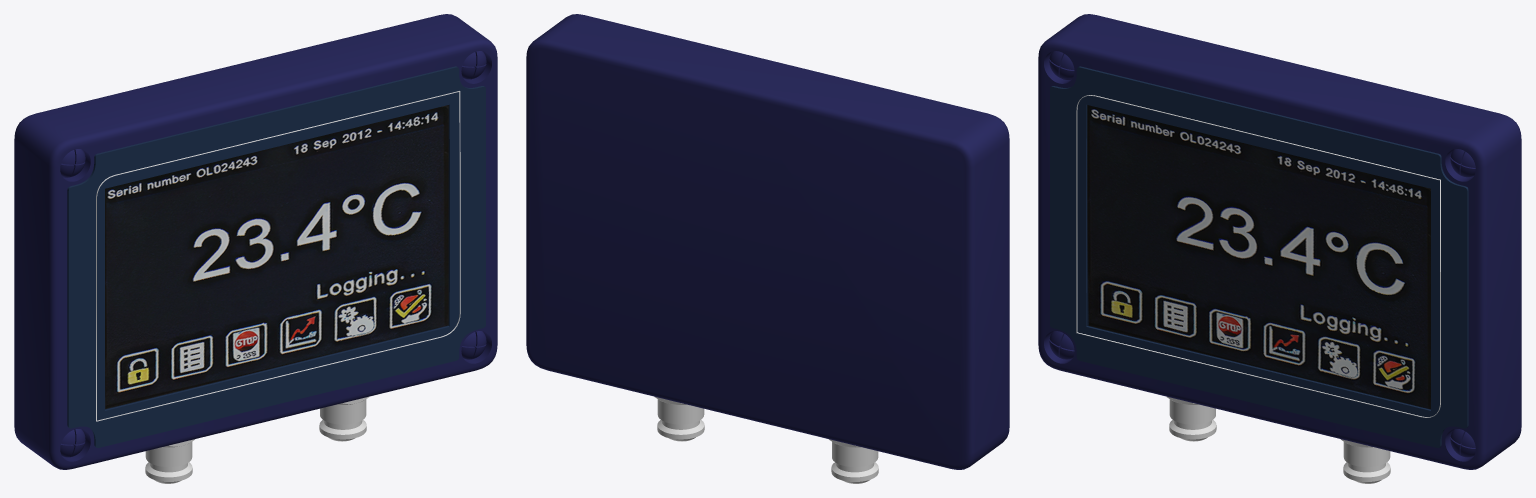
File: Sensor_C.glb
The picture shows the model from 3 angles, left to right: view 1: azimuth 30°, elevation 25°; view 2: azimuth 150°, elevation 25°; view 3: azimuth 330°, elevation 25°; orthographic projection.
Parts seen in each view (by area): view 1: Sensor_C; view 2: Sensor_C; view 3: Sensor_C.
Part boxes in pixels (bbox=[...]): Sensor_C: bbox=[14, 14, 497, 483]; Sensor_C: bbox=[526, 14, 1009, 483]; Sensor_C: bbox=[1038, 14, 1521, 483].
Bounding box in the file's own units: 1.86 × 1.52 × 0.3036.
Materials: 4 (1 with a texture image).
